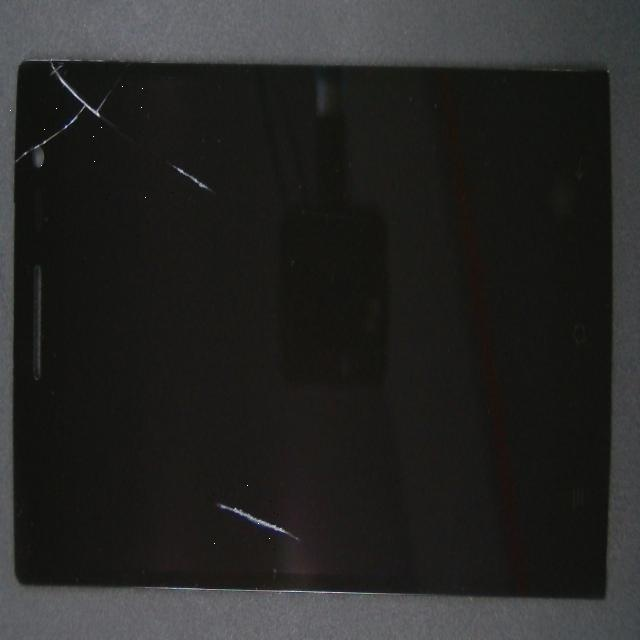scratch: (151, 278, 452, 640), (92, 56, 252, 236), (3, 47, 17, 250)
